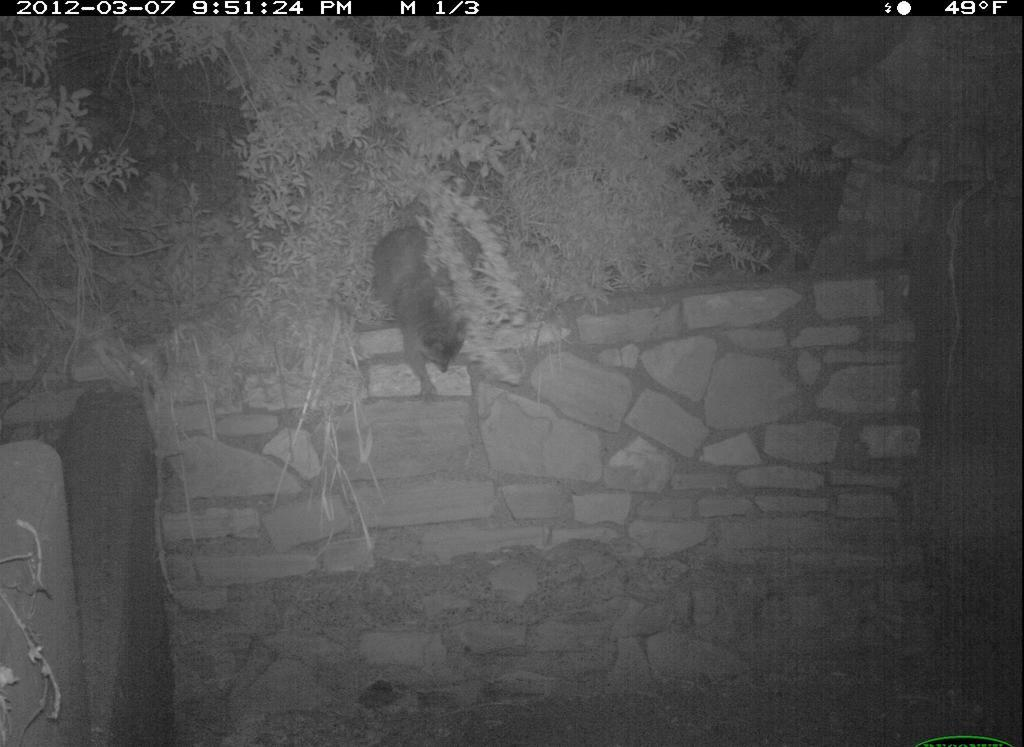raccoon: (369, 208, 483, 405)
